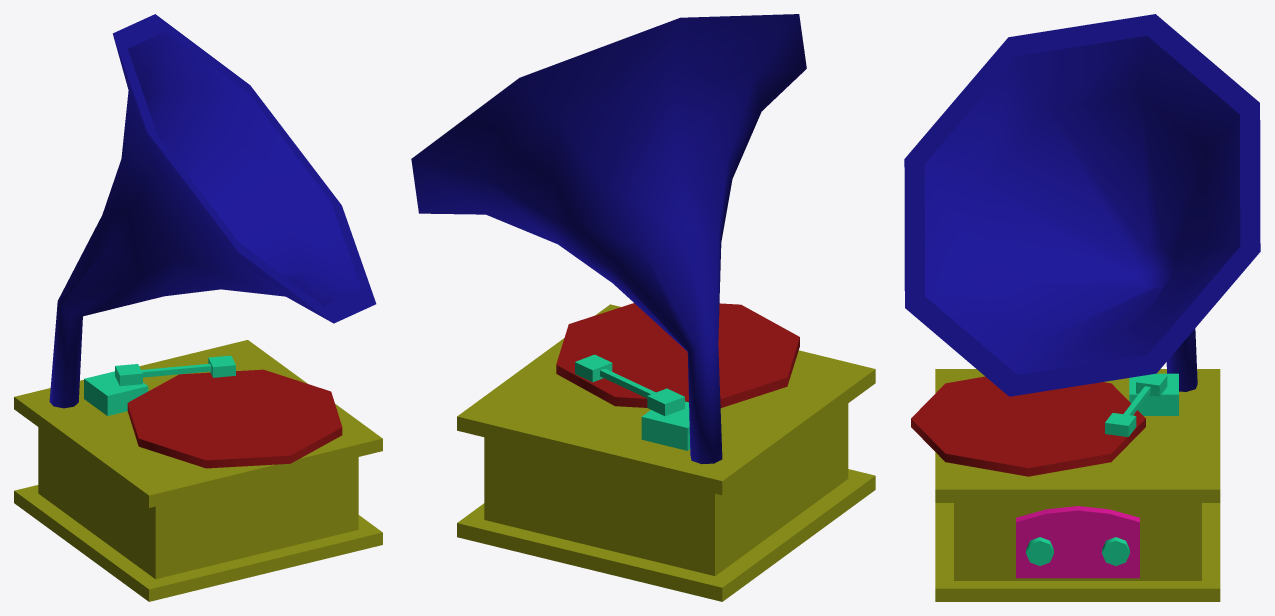
File: SM_LecteurVinile.FBX
3 renders of one model, left to right at view 1: azimuth 30°, elevation 25°; view 2: azimuth 150°, elevation 25°; view 3: azimuth 270°, elevation 25°, orthographic. The views are drawn at different scales.
Visible parts, largest first — view 1: SM_LecteurVinile; view 2: SM_LecteurVinile; view 3: SM_LecteurVinile.
Part boxes in pixels (bbox=[...]): SM_LecteurVinile: bbox=[14, 14, 382, 601]; SM_LecteurVinile: bbox=[411, 14, 875, 601]; SM_LecteurVinile: bbox=[904, 14, 1260, 601].
Bounding box in the file's own units: 77.25 × 118 × 75.77.
